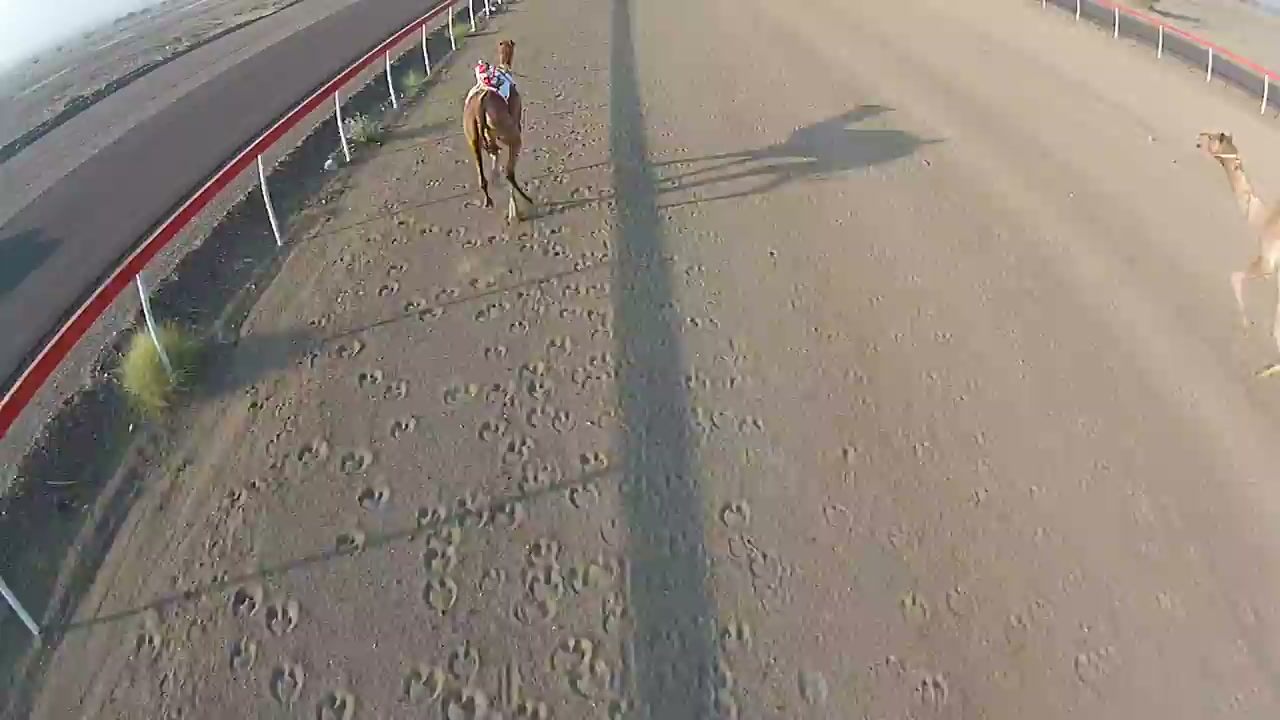animal_foot_print: (215, 200, 649, 719), (631, 193, 864, 682)
